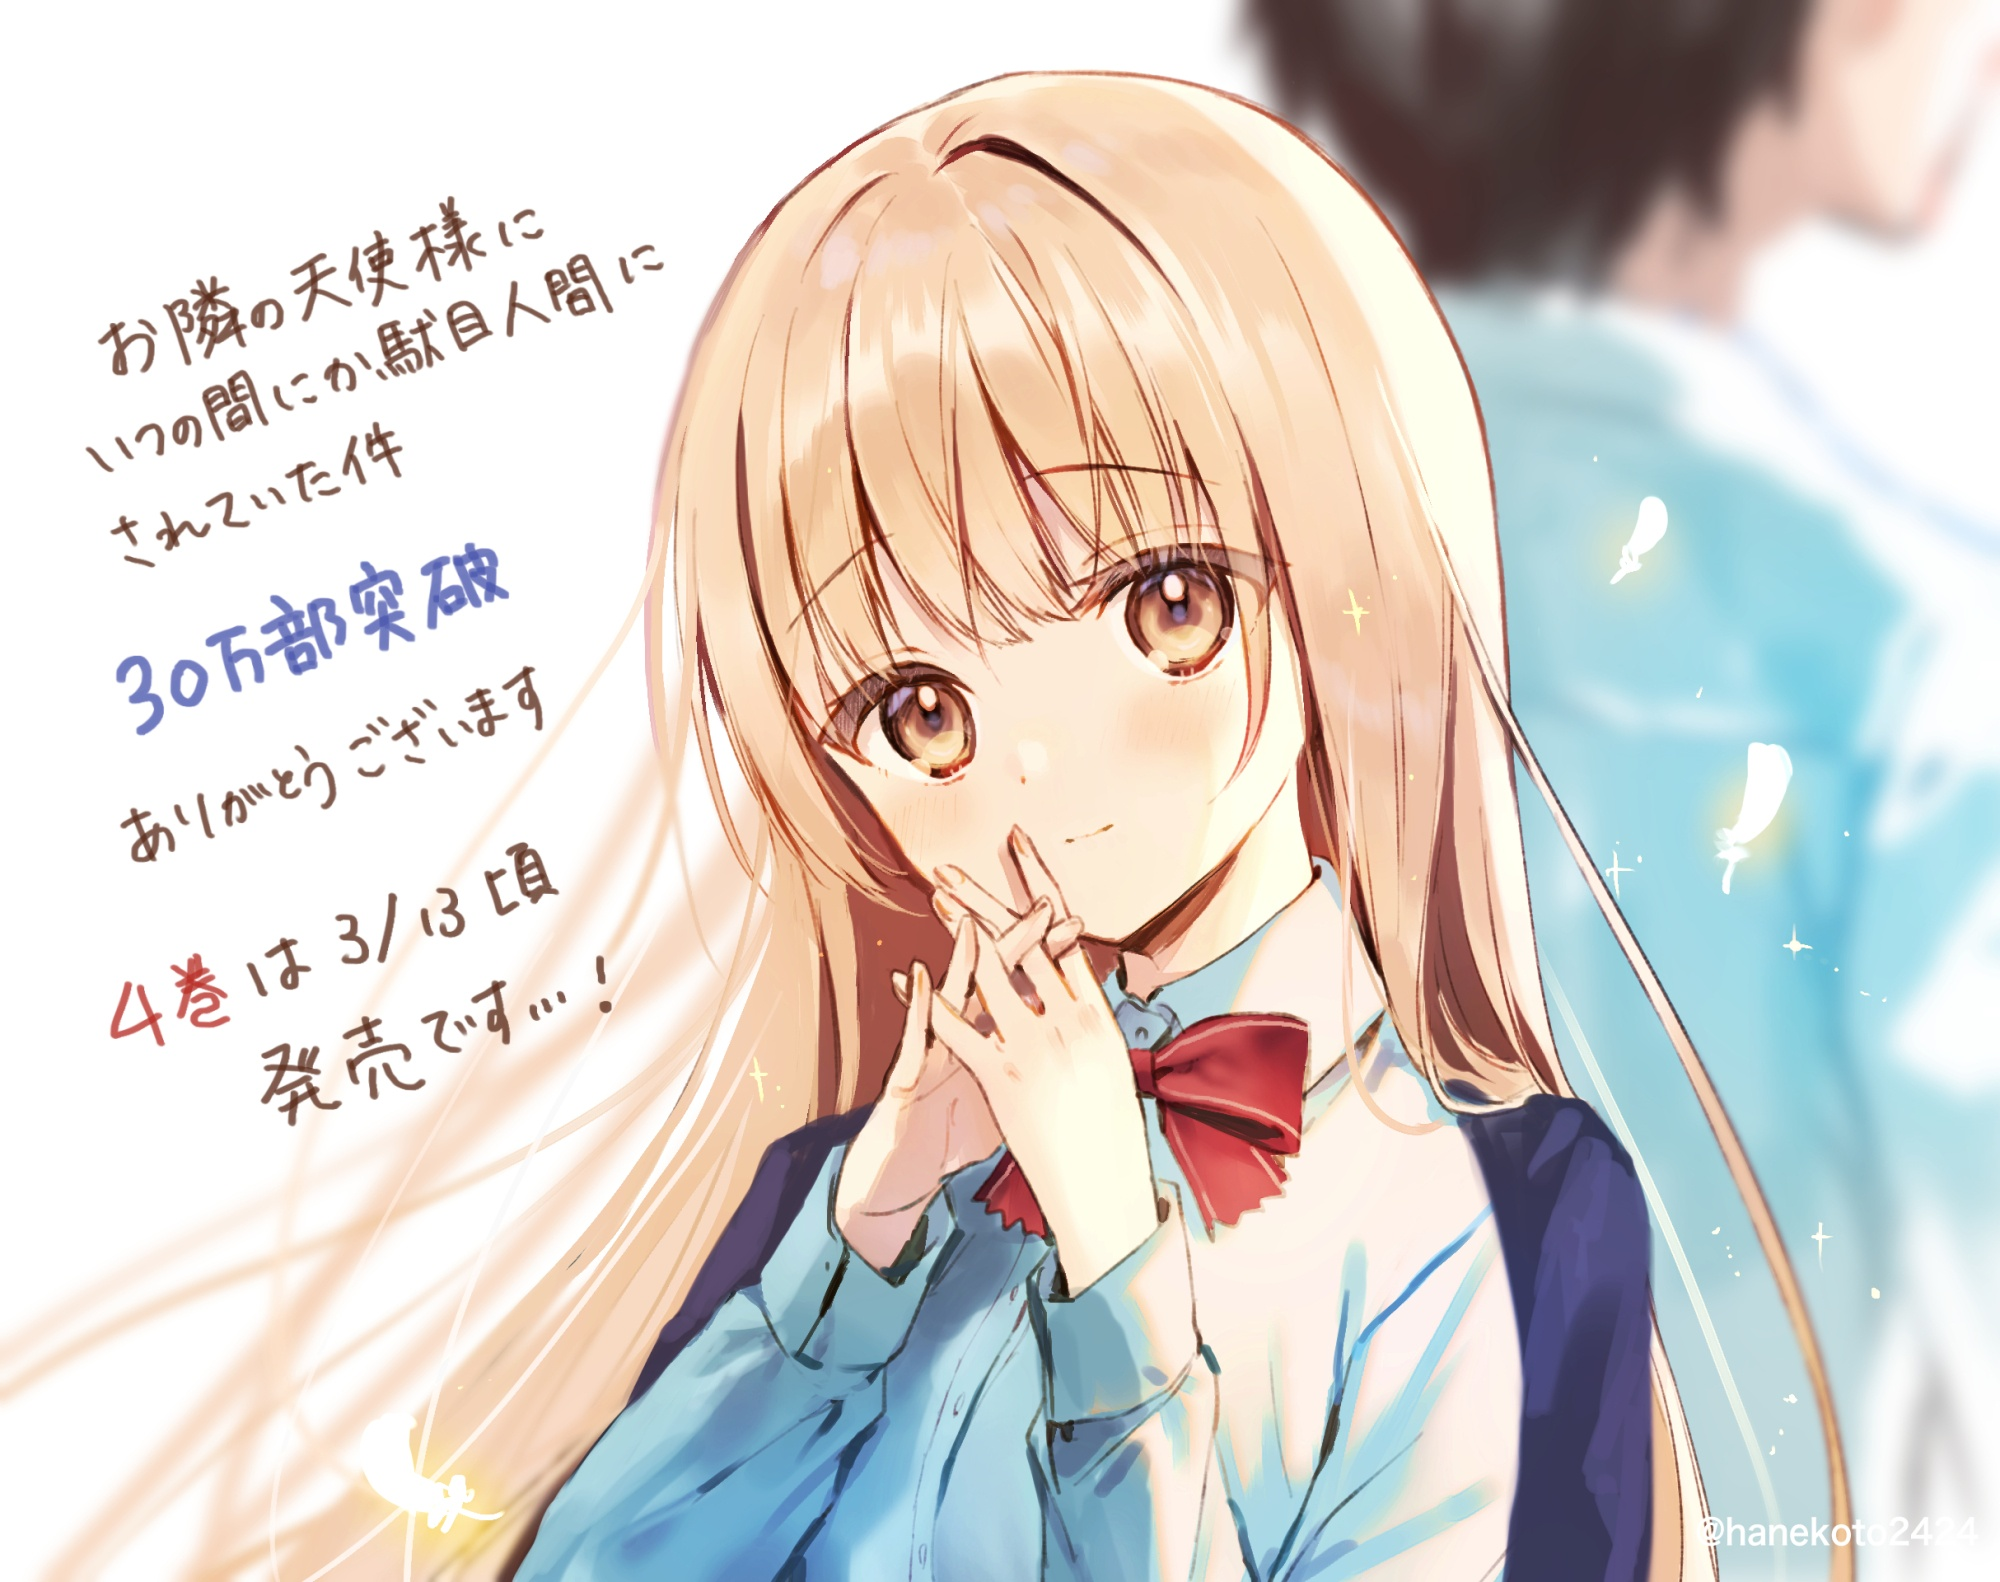纸片人正脸: (651, 61, 1489, 956)
